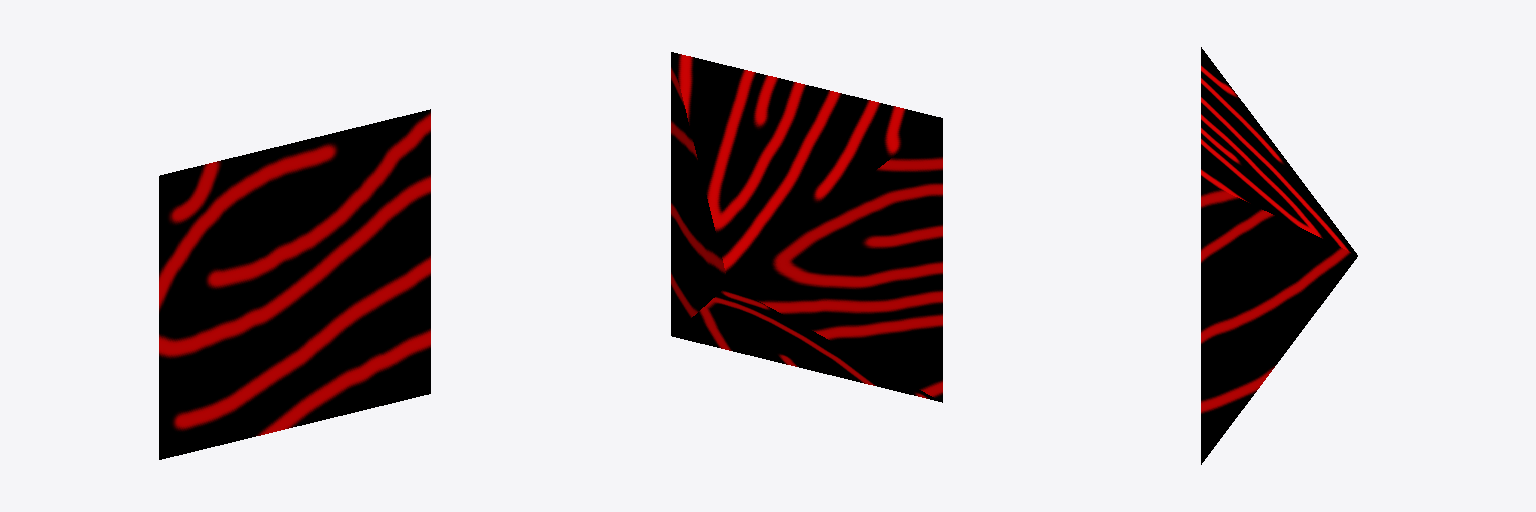
3 views of the same model, side by side, from view 1: azimuth 30°, elevation 25°; view 2: azimuth 150°, elevation 25°; view 3: azimuth 270°, elevation 25° (orthographic).
Visible parts, largest first — view 1: piramid; view 2: piramid; view 3: piramid.
Boxes of the visible parts, x1,y1,x2,y2 form: piramid: [159, 109, 430, 459]; piramid: [671, 52, 942, 402]; piramid: [1201, 47, 1357, 464].
Size of the model in its own units: 2 by 2 by 1.
Materials: 1 (1 with a texture image).